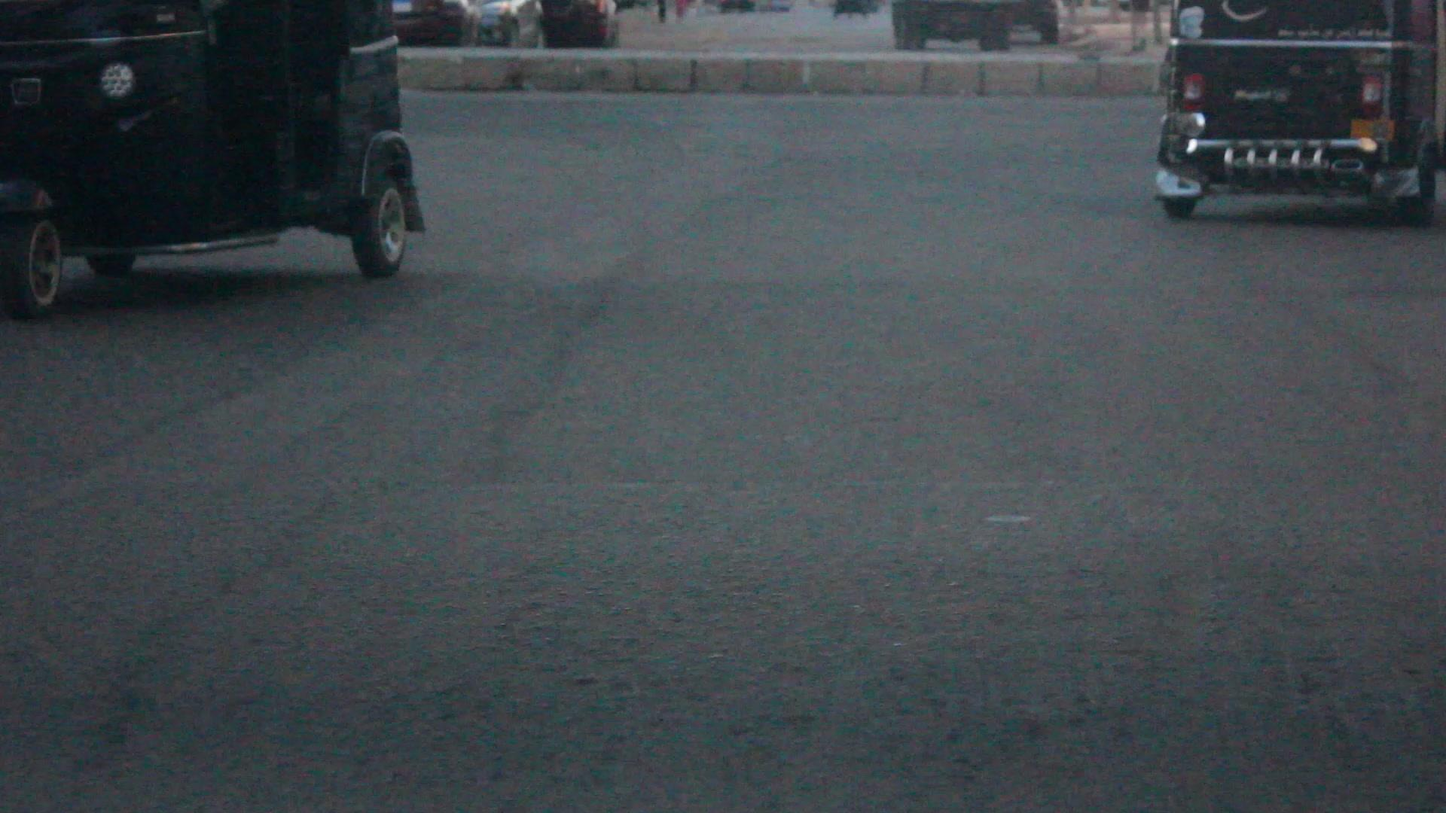Bump: (6, 502, 1446, 813)
